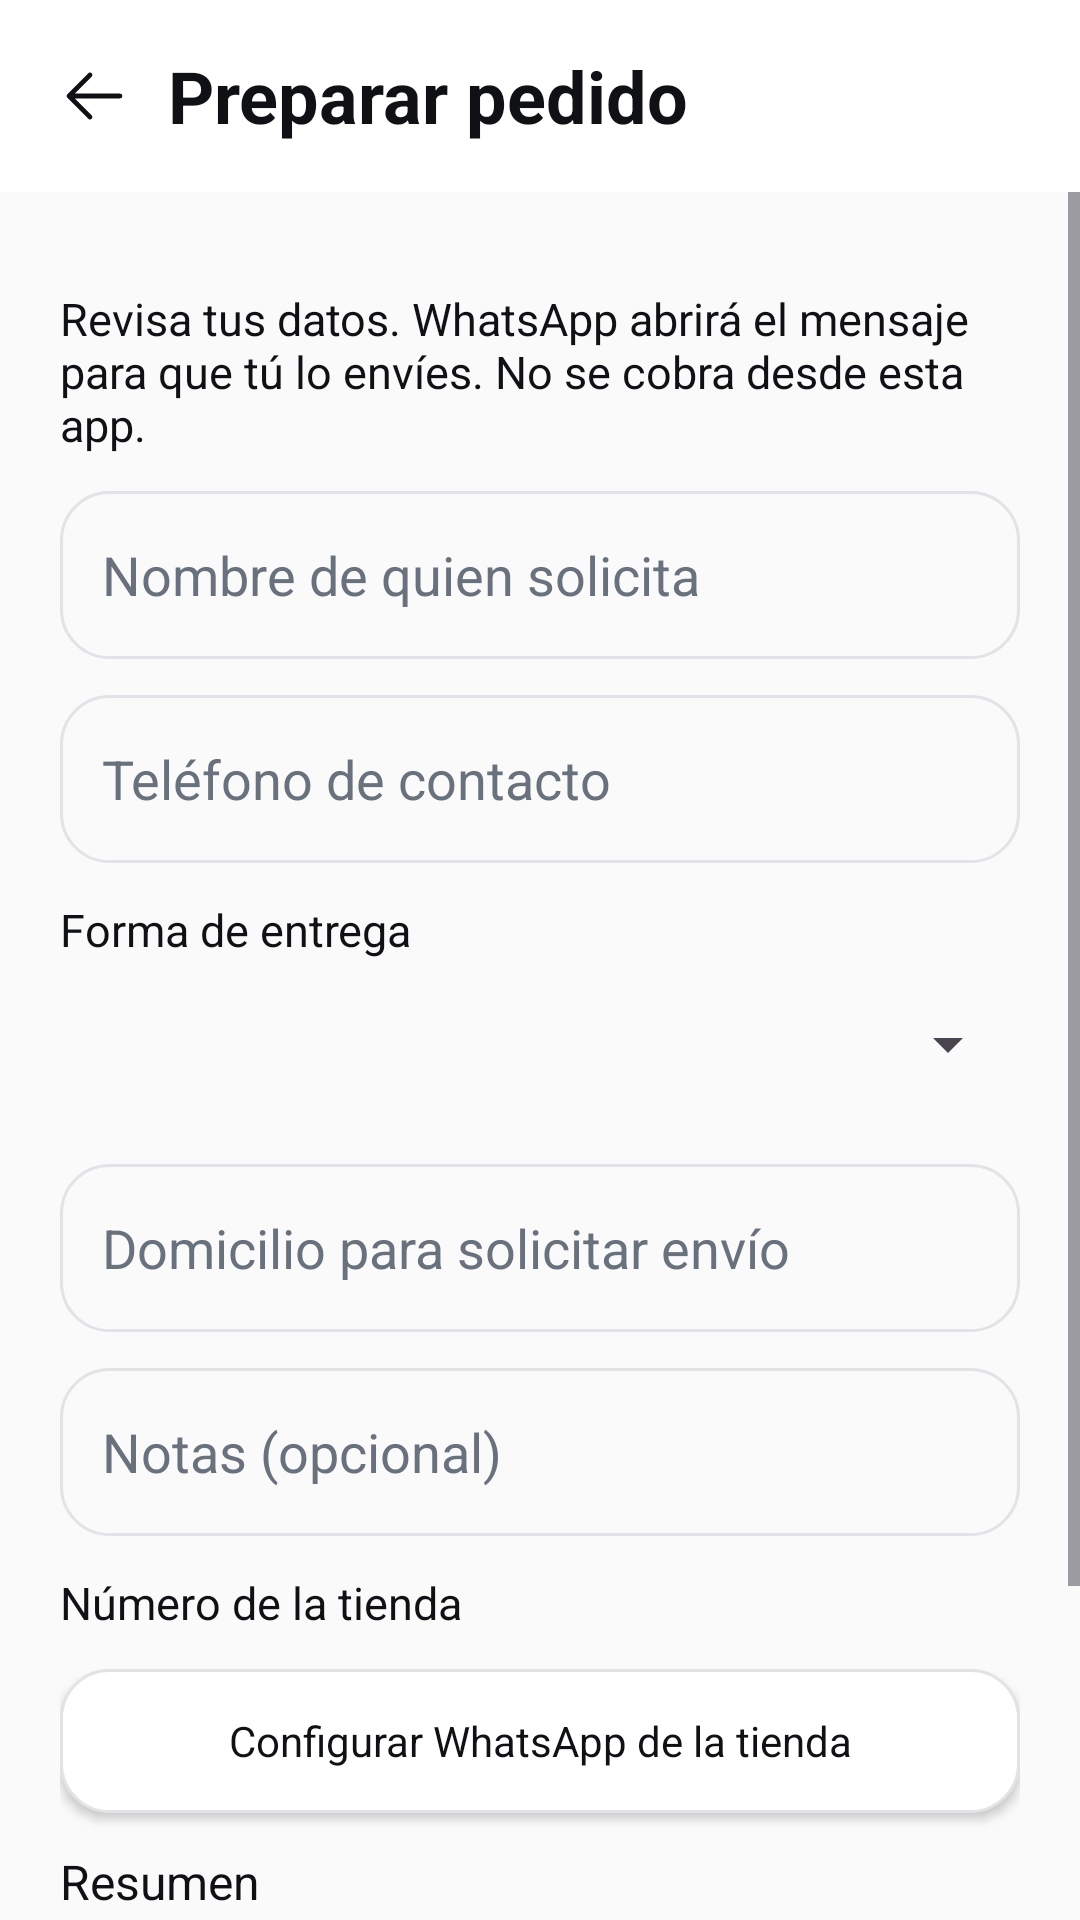

Point at icon controls on the screen. Image size 1080px×1920px, points as [x,y].
Volver: [94,96]
